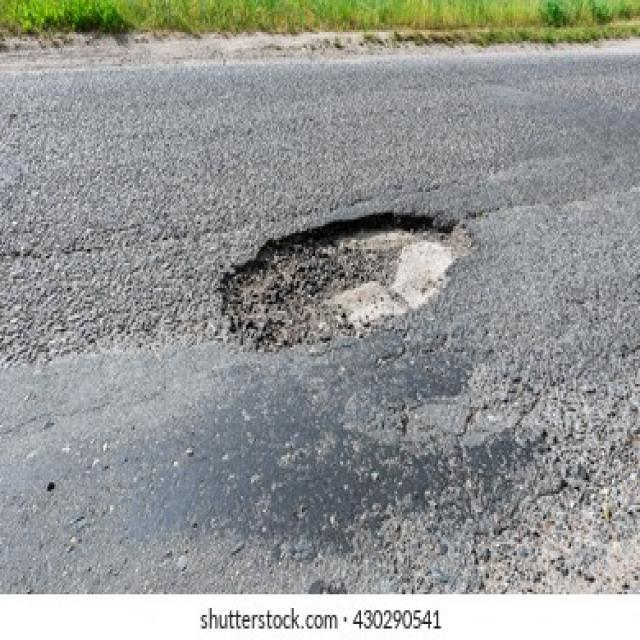pothole: (220, 213, 480, 354)
